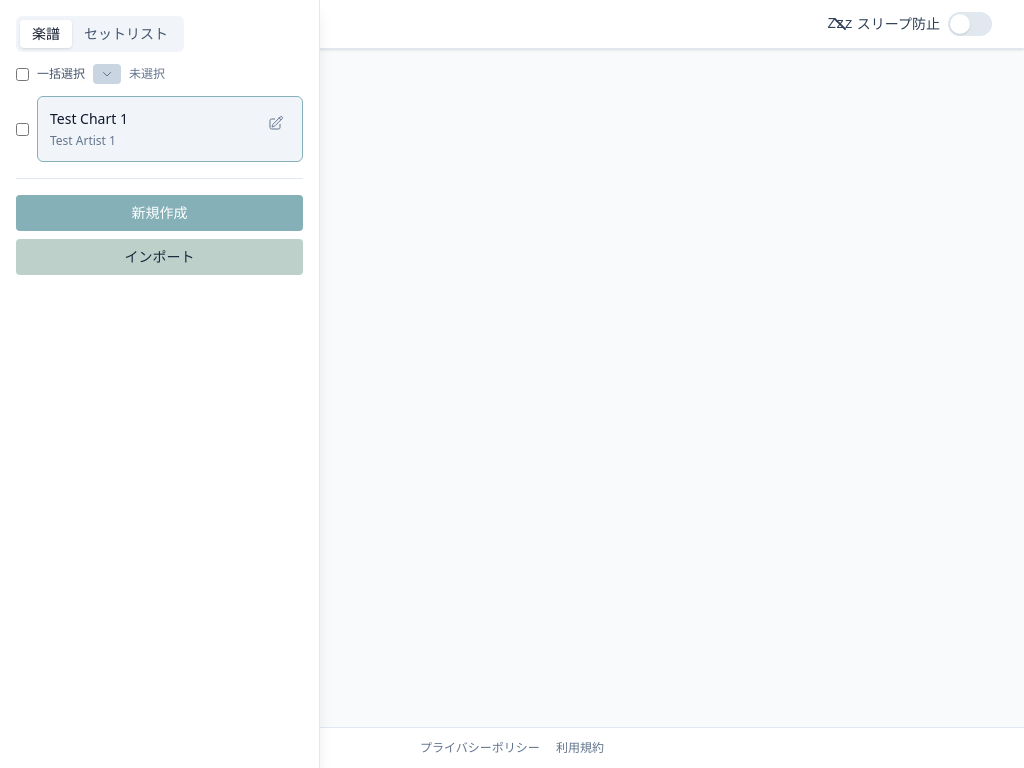
Test: MainLayout › should close create form when cancel is clicked
// 新規作成フォームを開く
Click the button "新規作成". click: [160, 213]
box: [16,195,303,231]
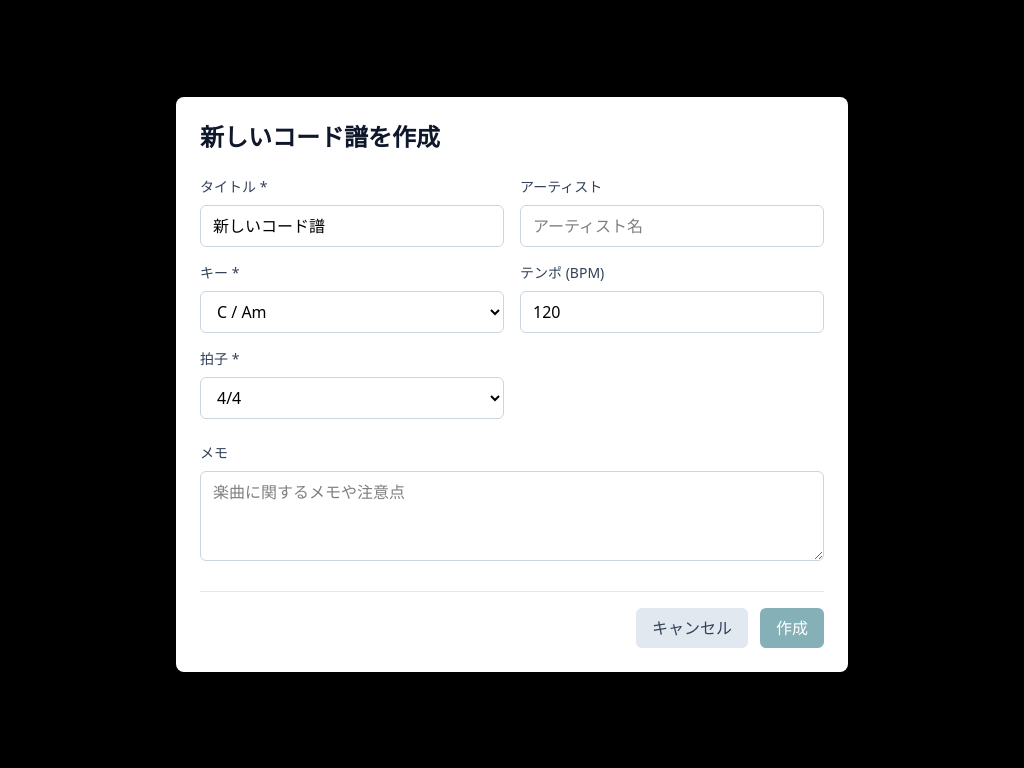
Check: the form with test id "chord-chart-form" is shown, box [200,176,824,648]
// キャンセルボタンをクリック
Click the button "キャンセル". click: [692, 628]
box: [636,608,748,648]
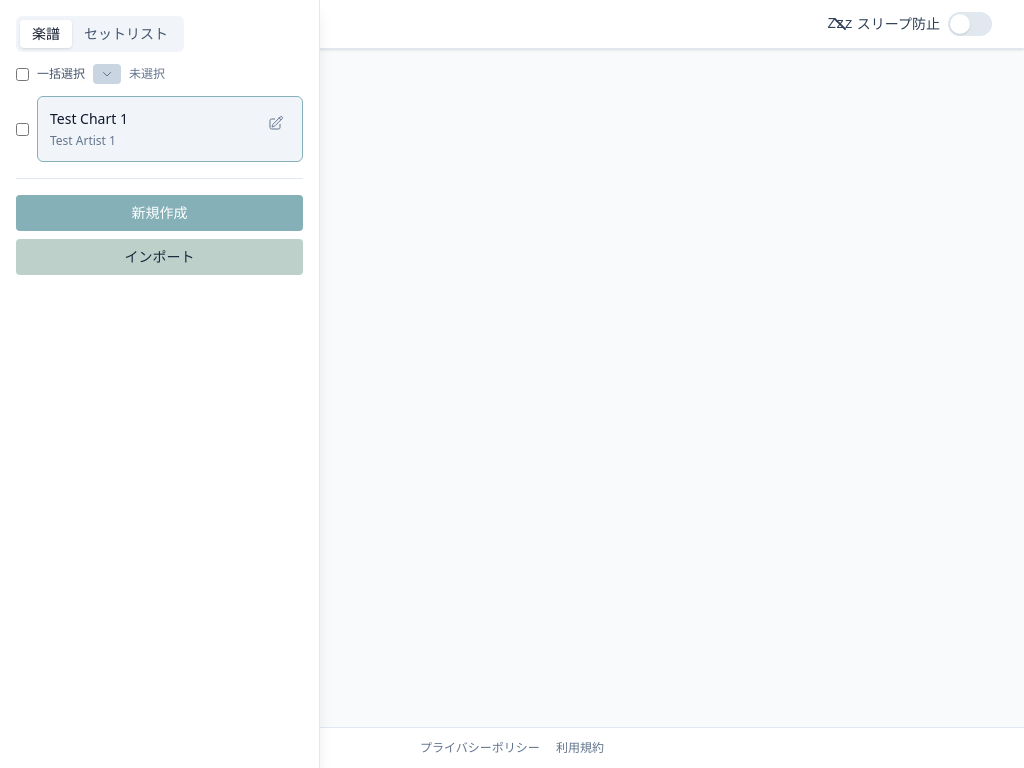
Check: the form with test id "chord-chart-form" is gone
